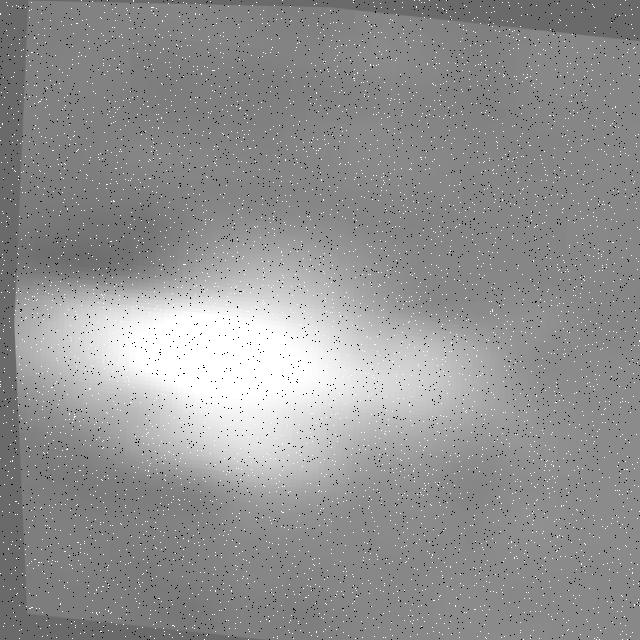person: (10, 246, 516, 492)
